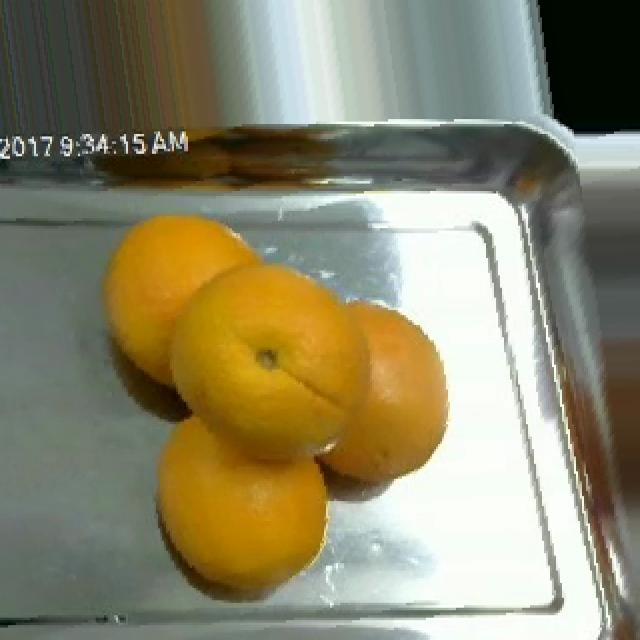Fruit: (528, 0, 640, 149)
